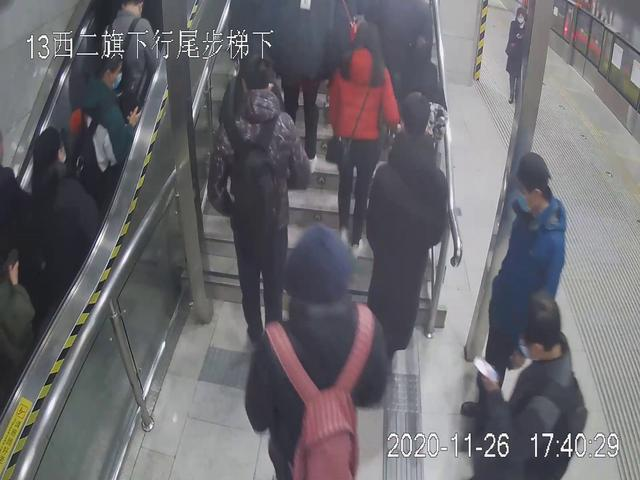person: (197, 56, 321, 336), (370, 92, 451, 374), (486, 290, 601, 480), (315, 14, 402, 261), (488, 150, 564, 410), (66, 49, 139, 206), (502, 9, 539, 102)
